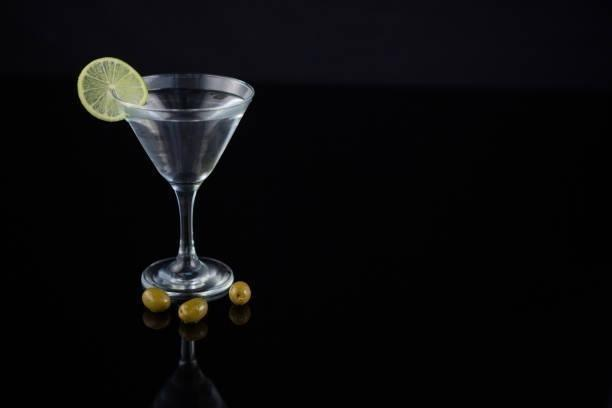glass-wine: (113, 70, 256, 300)
